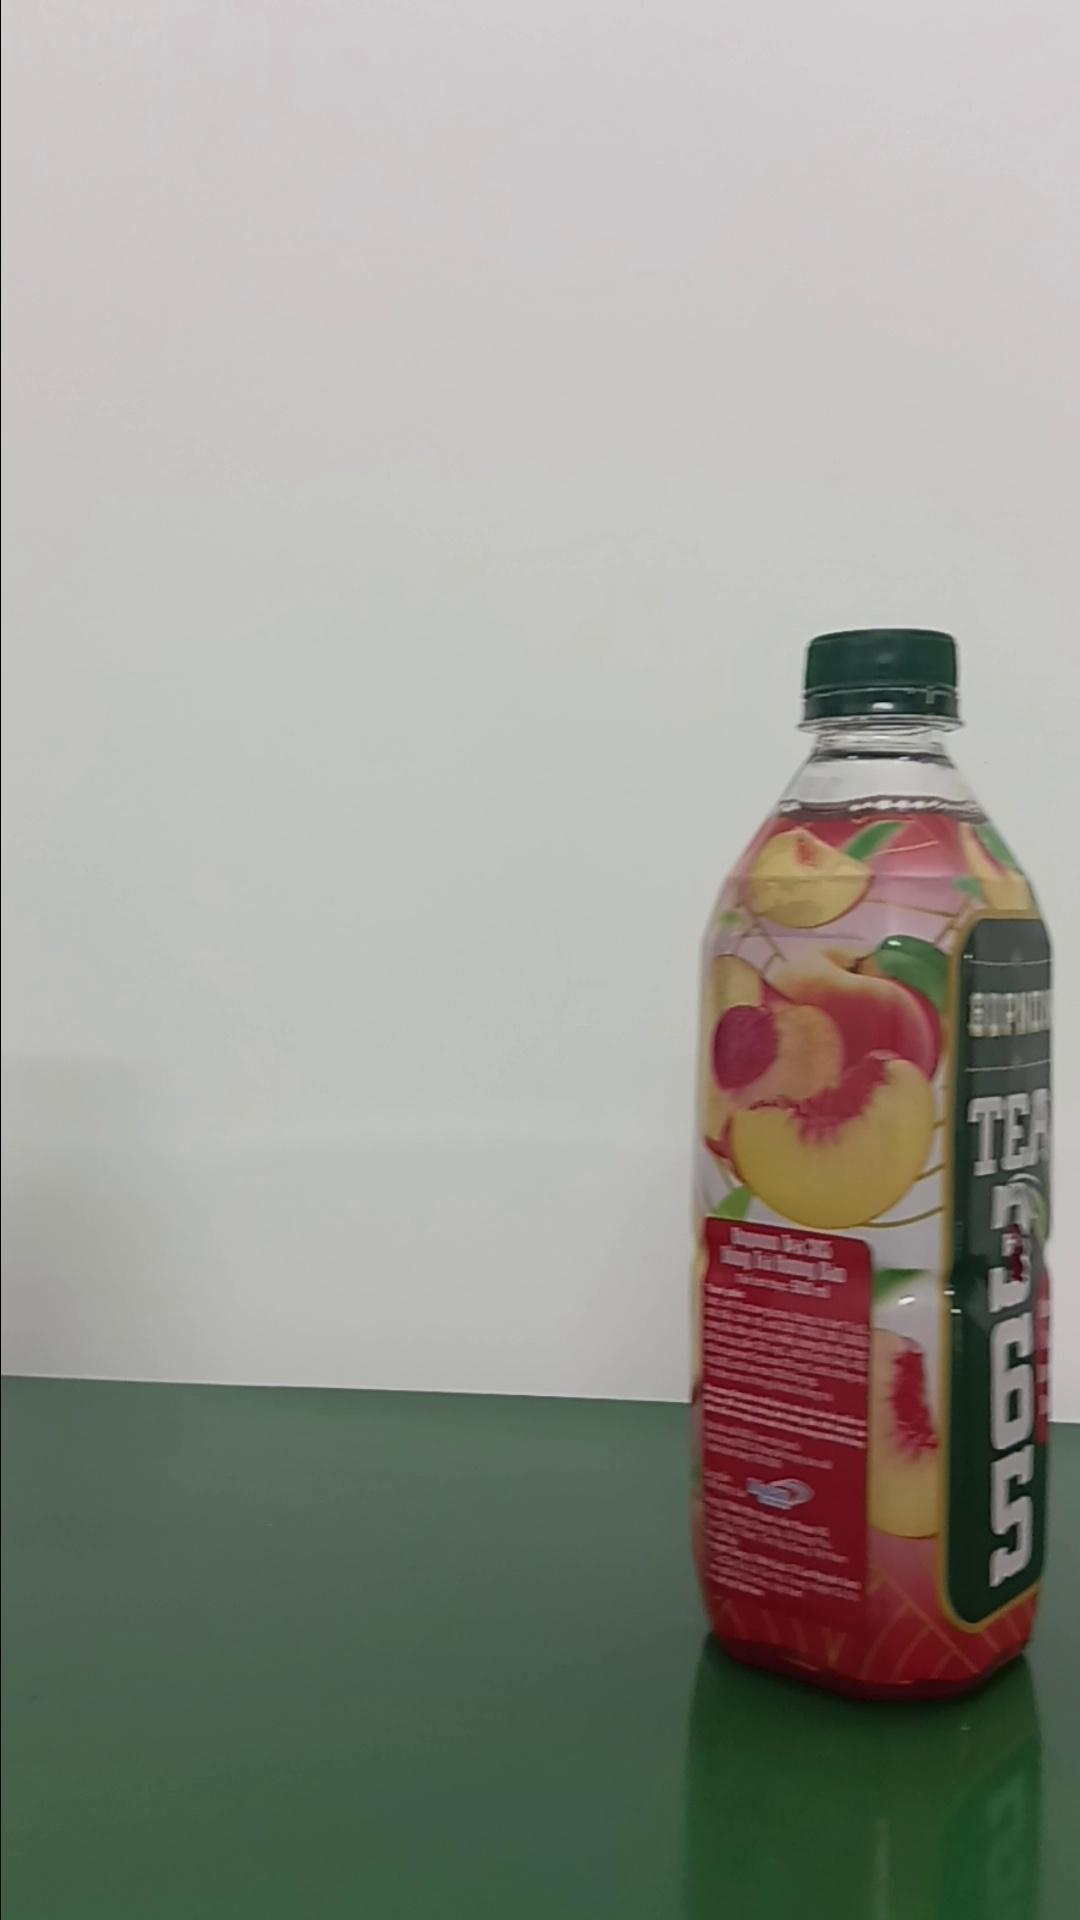loi rach va lap chai: (690, 620, 1055, 1710)
